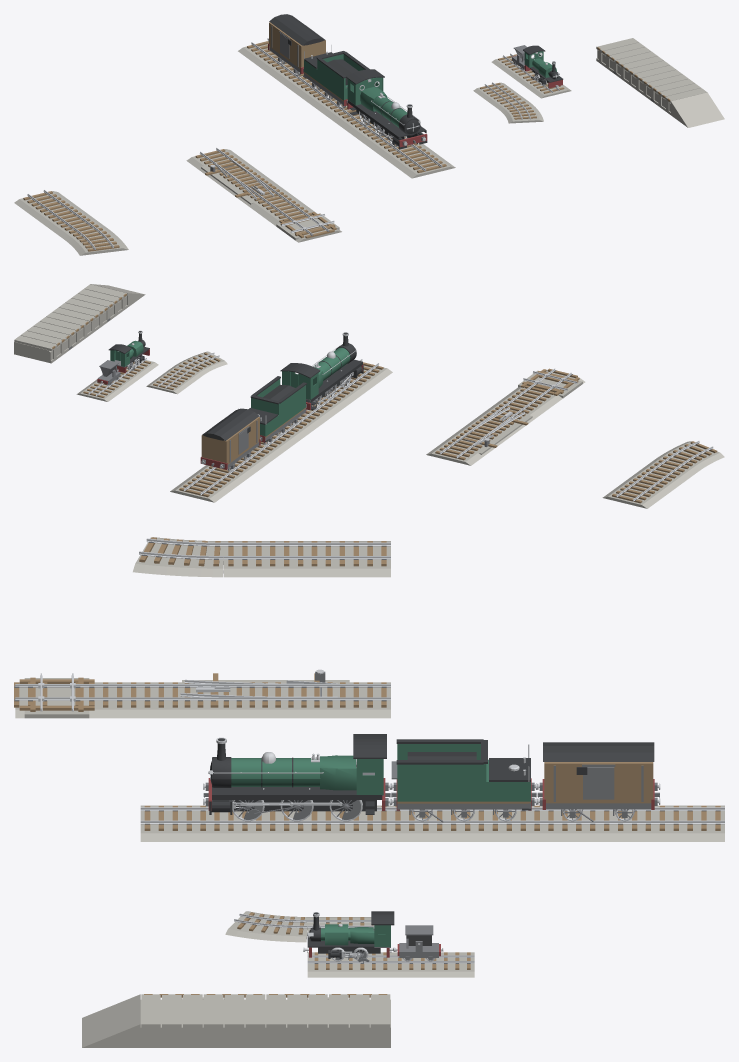
The model's file is steam-era-railway-and-rolling-stock-connector-cases-293476ca.glb.
3 renders of one model, top to bottom at view 1: azimuth 30°, elevation 25°; view 2: azimuth 150°, elevation 25°; view 3: azimuth 270°, elevation 25°, orthographic. The views are drawn at different scales.
Parts seen in each view (by area): view 1: 015-platform-module-ramp/0, 014-platform-module/0, 007-goods-0-6-0/0, 007-goods-0-6-0/1, 004-turnout-left/1, 008-six-wheel-tender/15, 004-turnout-left/0, 009-box-van/0, 009-box-van/11, 008-six-wheel-tender/16, 022-track-straight-4m/0, 002-track-curve-15deg/0 (+18 smaller); view 2: 014-platform-module/0, 015-platform-module-ramp/0, 008-six-wheel-tender/15, 007-goods-0-6-0/0, 007-goods-0-6-0/1, 009-box-van/0, 004-turnout-left/0, 004-turnout-left/1, 009-box-van/11, 008-six-wheel-tender/16, 016-track-straight-4m/0, 000-track-straight-4m/0 (+25 smaller); view 3: 015-platform-module-ramp/0, 014-platform-module/0, 008-six-wheel-tender/15, 007-goods-0-6-0/1, 007-goods-0-6-0/0, 004-turnout-left/0, 009-box-van/0, 008-six-wheel-tender/16, 009-box-van/1, 009-box-van/11, 005-track-straight-4m/0, 004-turnout-left/3 (+21 smaller).
Boxes of the visible parts, x1,y1,x2,y2 form: 015-platform-module-ramp/0: (633,65,724,127); 014-platform-module/0: (596,38,669,87); 007-goods-0-6-0/0: (346,69,426,143); 007-goods-0-6-0/1: (347,77,407,127); 004-turnout-left/1: (205,158,283,201); 008-six-wheel-tender/15: (304,54,364,100); 004-turnout-left/0: (199,158,292,206); 009-box-van/0: (269,22,325,68); 009-box-van/11: (269,14,324,45); 008-six-wheel-tender/16: (303,51,369,85); 022-track-straight-4m/0: (387,148,455,178); 002-track-curve-15deg/0: (64,227,128,255); 014-platform-module/0: (14,312,89,363); 015-platform-module-ramp/0: (52,284,145,334); 008-six-wheel-tender/15: (251,379,305,436); 007-goods-0-6-0/0: (280,332,362,409); 007-goods-0-6-0/1: (282,347,350,399); 009-box-van/0: (201,417,259,464); 004-turnout-left/0: (439,407,534,456); 004-turnout-left/1: (448,407,528,450); 009-box-van/11: (202,408,259,440); 008-six-wheel-tender/16: (248,376,306,441); 016-track-straight-4m/0: (170,472,239,502); 000-track-straight-4m/0: (602,478,672,508); 015-platform-module-ramp/0: (82,994,265,1047); 014-platform-module/0: (265,997,390,1047); 008-six-wheel-tender/15: (397,744,530,801); 007-goods-0-6-0/1: (231,755,383,794); 007-goods-0-6-0/0: (210,734,386,814); 004-turnout-left/0: (182,680,349,718); 009-box-van/0: (544,762,653,803); 008-six-wheel-tender/16: (396,739,531,810); 009-box-van/1: (537,764,659,821); 009-box-van/11: (543,742,654,761); 005-track-straight-4m/0: (98,682,182,718); 004-turnout-left/3: (180,669,349,700).
Size of the model in its own units: 57.9 by 4.44 by 34.06.
